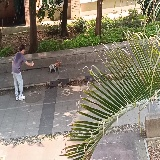fire: (56, 62, 59, 66)
